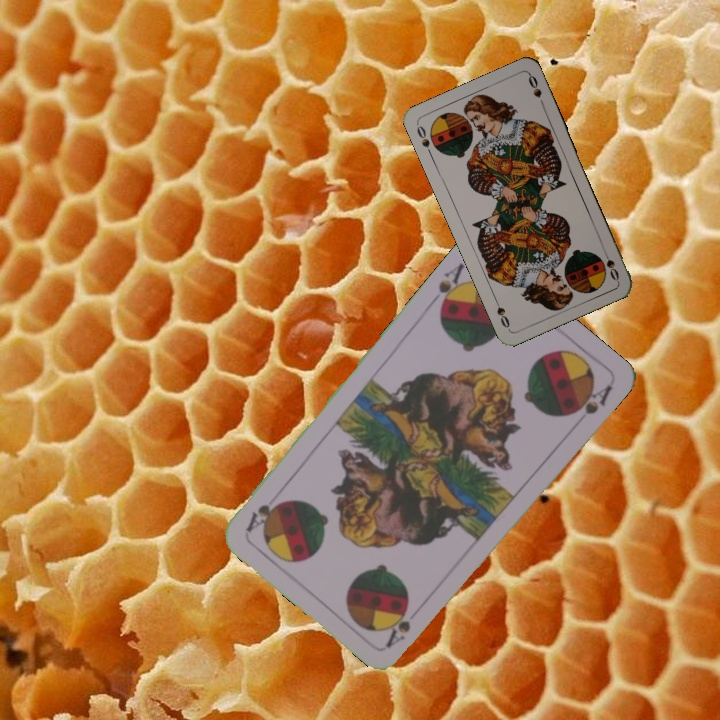SA: (426, 259, 469, 314), (382, 604, 414, 650)
SO: (599, 244, 622, 283), (413, 120, 435, 159)
